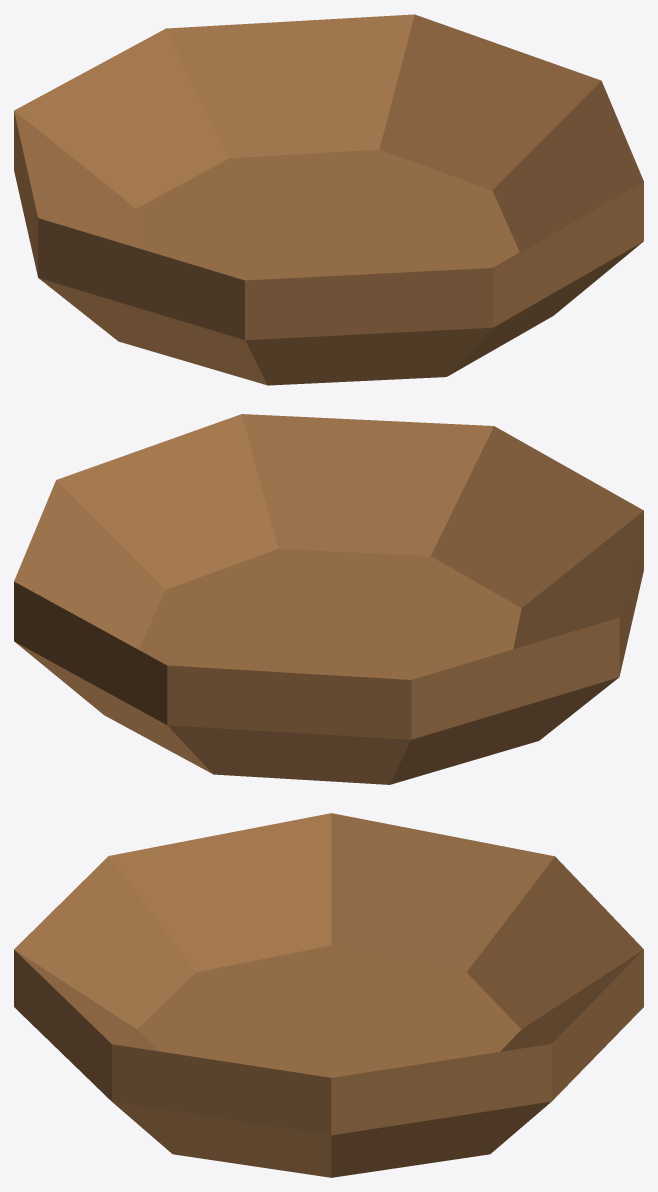
The model's file is bowl.fbx.
The picture shows the model from 3 angles, top to bottom: view 1: azimuth 30°, elevation 25°; view 2: azimuth 150°, elevation 25°; view 3: azimuth 270°, elevation 25°; orthographic projection. The views are drawn at different scales.
Parts seen in each view (by area): view 1: Cube; view 2: Cube; view 3: Cube.
Boxes of the visible parts, x1=… form: Cube: x1=14, y1=14, x2=643, y2=385; Cube: x1=14, y1=414, x2=643, y2=784; Cube: x1=14, y1=813, x2=643, y2=1177.
Size of the model in its own units: 197 by 47.85 by 198.
